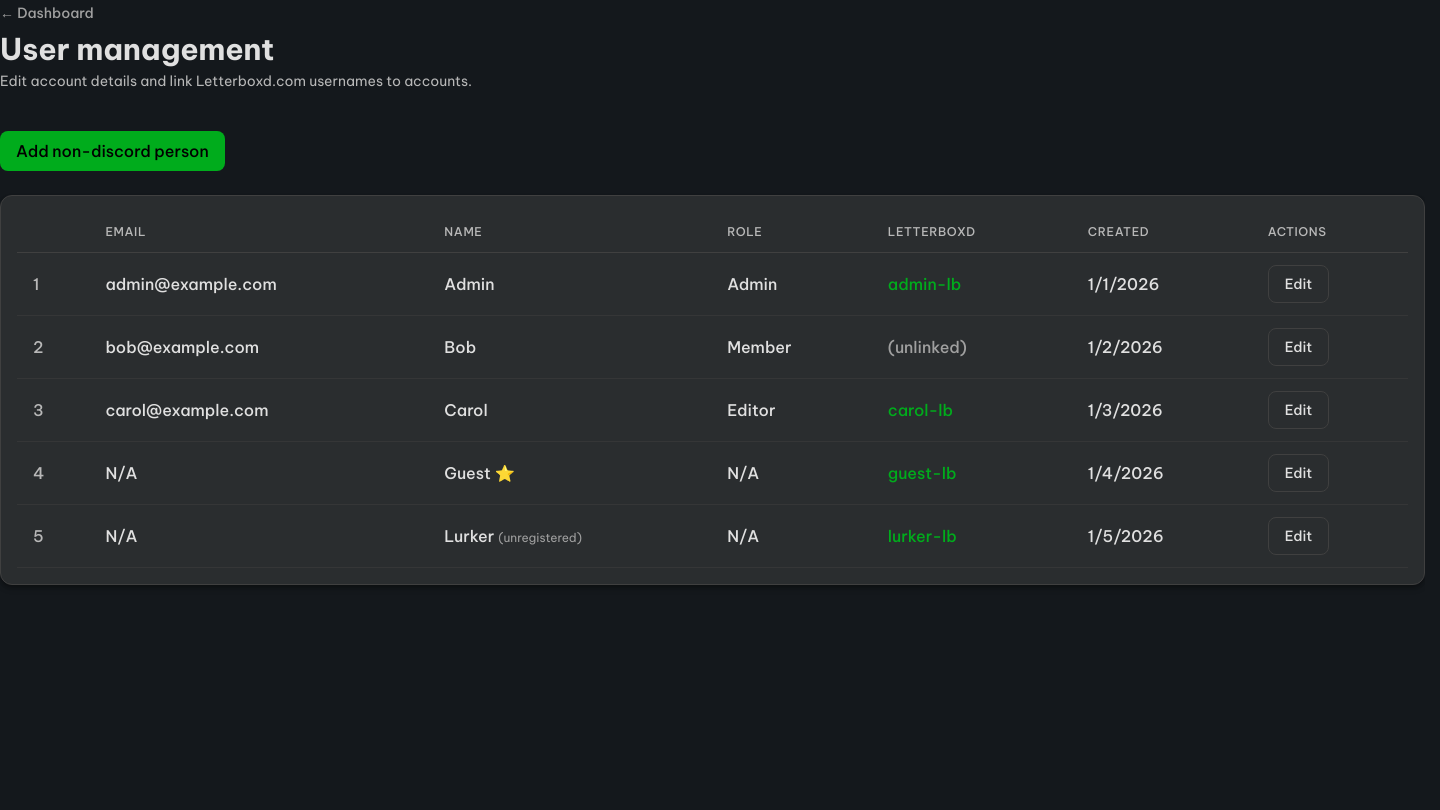
Test: UserAdmin — non-discord profiles › edits a profile's name and patches the row
This screenshot has width=1440, height=810.
Click the button "Edit" in the row of "guest-lb".
click(1299, 473)  # box x1=1268 y1=454 x2=1329 y2=492
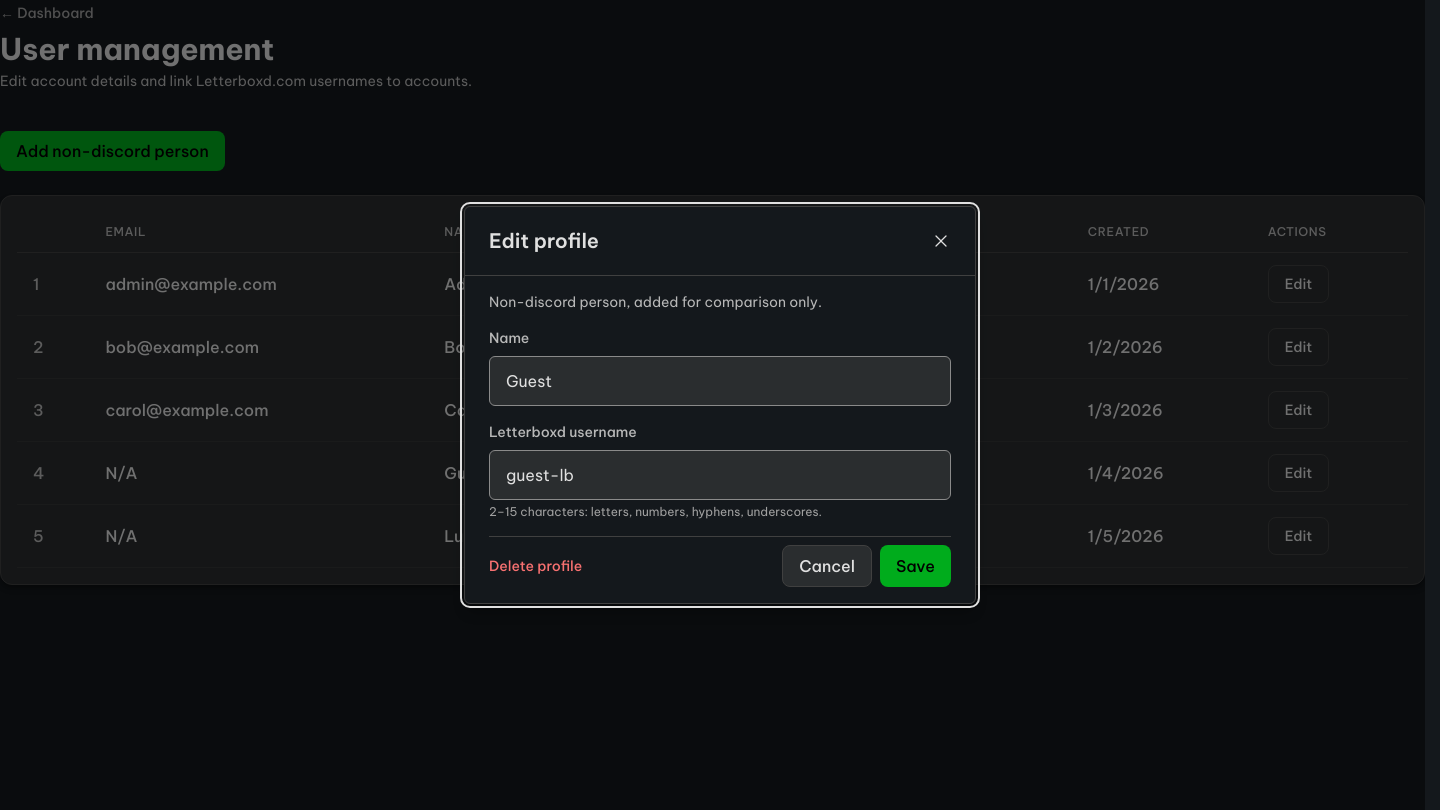
Expected: the heading "Edit profile" is shown, x1=489 y1=227 x2=599 y2=255
Replace the text in the field labelled "Name" with "Guest Star" at x=720, y=381, box x1=489 y1=356 x2=951 y2=406
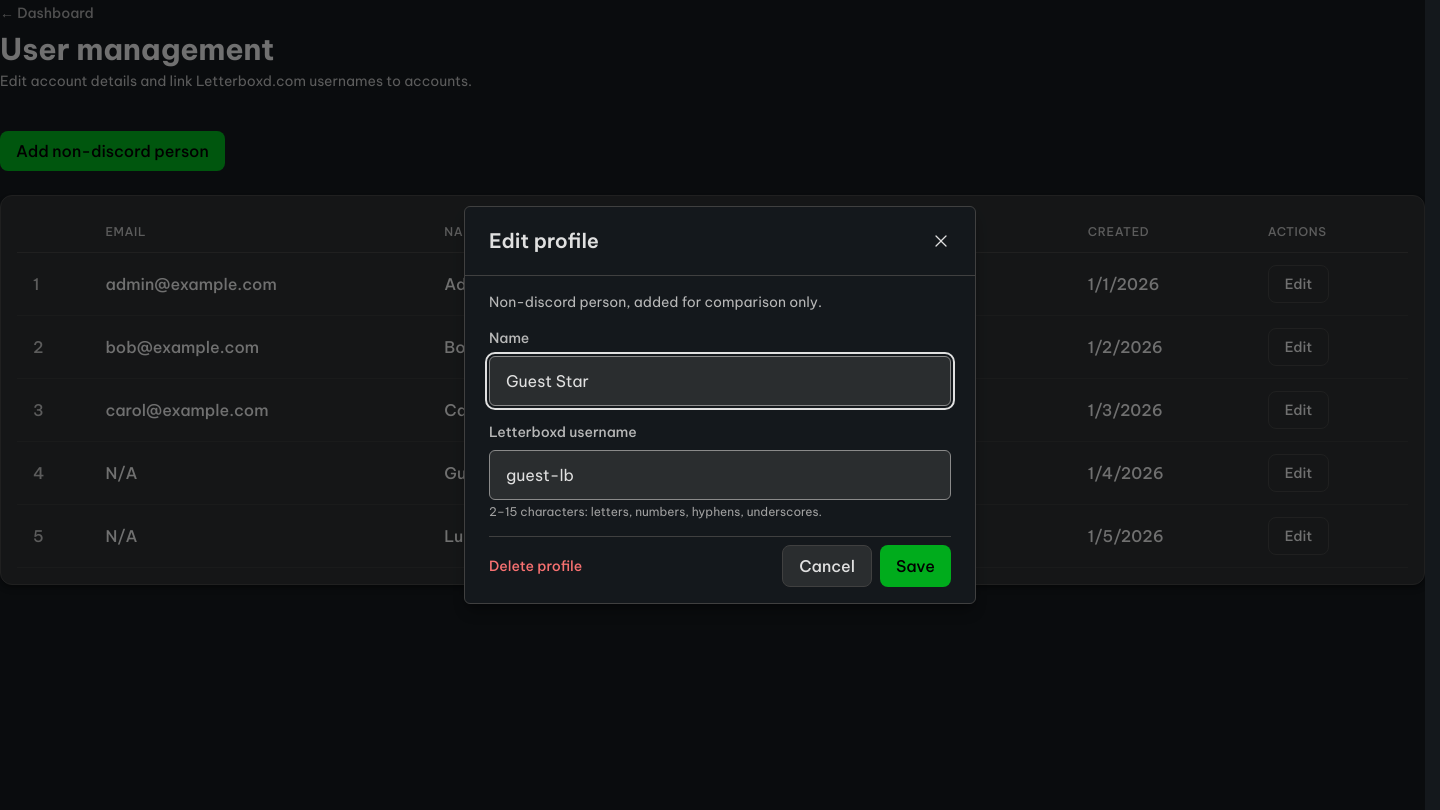
Click the button "Save".
click(916, 566)  # box x1=880 y1=545 x2=951 y2=587
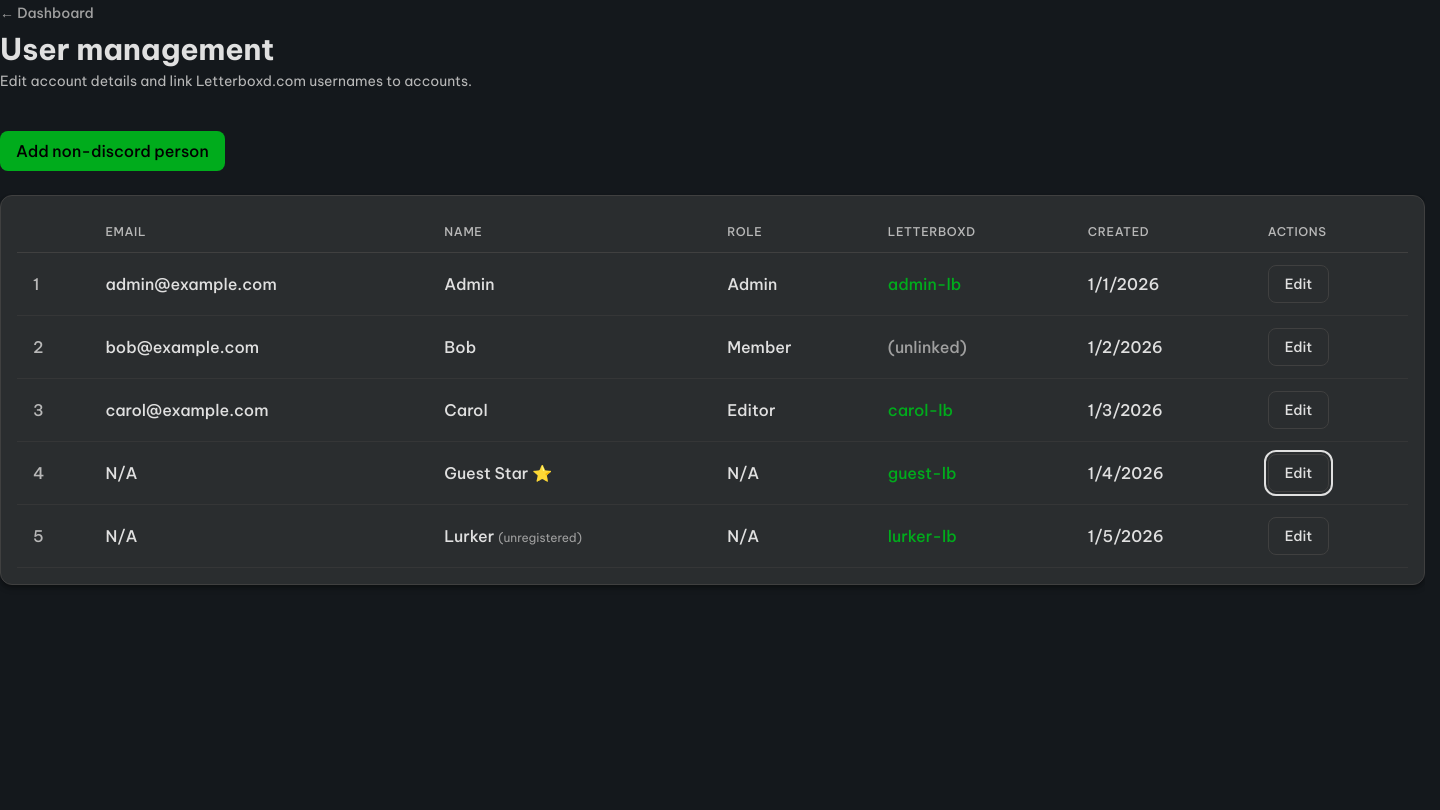
Expected: the text "Guest Star" is shown, x1=444 y1=463 x2=528 y2=483
